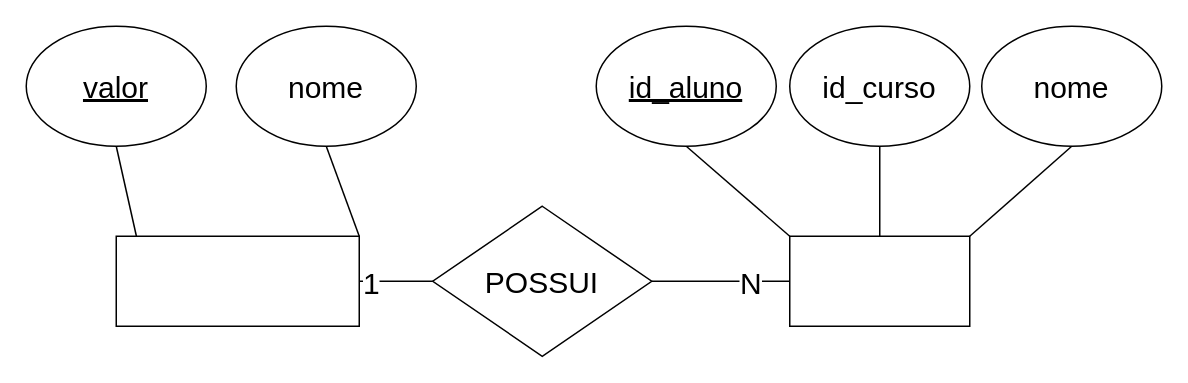
Some shapes in this 1188 by 383 pixel diagram are drawn without their labels. The centre of each missing label's shape, as x and y in pixels:
"ALUNO" belongs at pixel 879 280.
"ITEM_VENDA" belongs at pixel 237 280.
